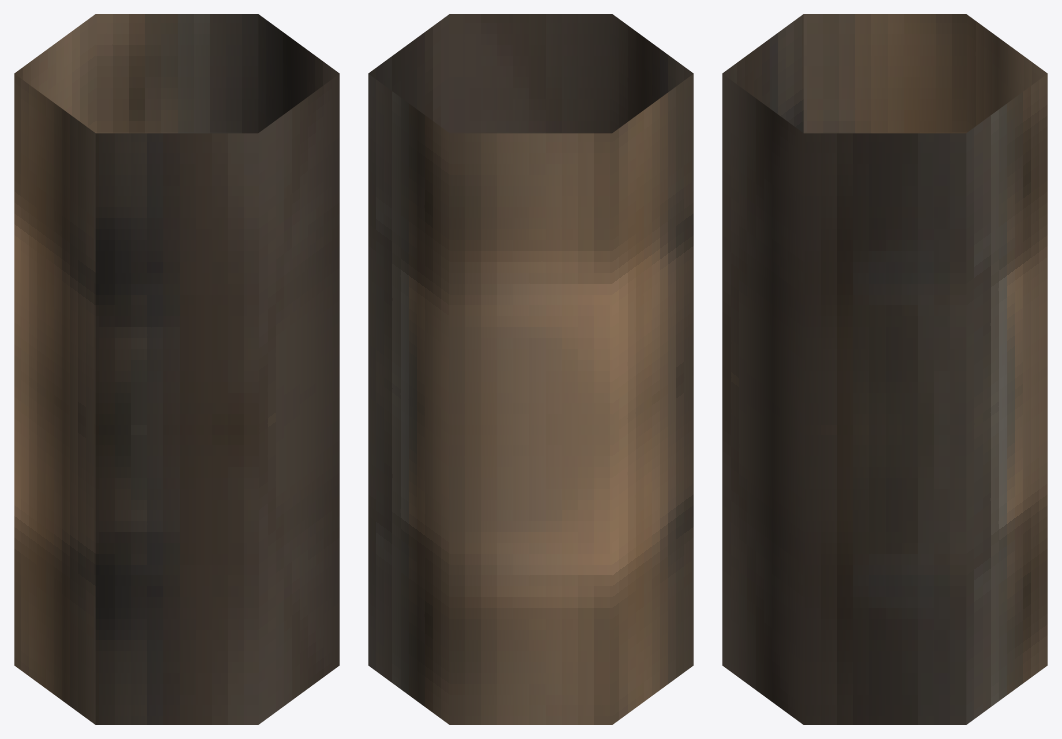
The model's file is Pipe.glb.
3 renders of one model, left to right at view 1: azimuth 30°, elevation 25°; view 2: azimuth 150°, elevation 25°; view 3: azimuth 270°, elevation 25°, orthographic.
Visible parts, largest first — view 1: Cylinder.003; view 2: Cylinder.003; view 3: Cylinder.003.
Boxes of the visible parts, left/top/right/bottom form: Cylinder.003: left=14, top=14, right=339, bottom=724; Cylinder.003: left=368, top=14, right=693, bottom=724; Cylinder.003: left=722, top=14, right=1047, bottom=724.
Size of the model in its own units: 1.73 by 4.01 by 2.
Materials: 1 (1 with a texture image).
